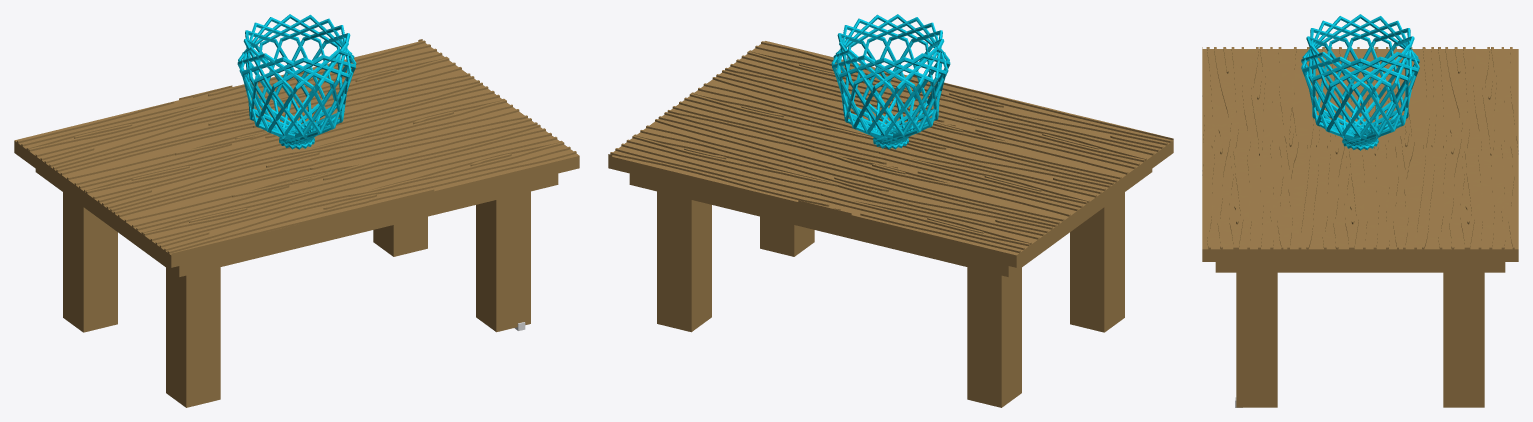
File: table.fbx
The picture shows the model from 3 angles, left to right: view 1: azimuth 30°, elevation 25°; view 2: azimuth 150°, elevation 25°; view 3: azimuth 270°, elevation 25°; orthographic projection.
Parts seen in each view (by area): view 1: obj_0; view 2: obj_0; view 3: obj_0.
Boxes of the visible parts, x1,y1,x2,y2 form: obj_0: (14,14,579,407); obj_0: (608,14,1173,407); obj_0: (1202,14,1518,407).
Size of the model in its own units: 12000 by 8100 by 8000.
